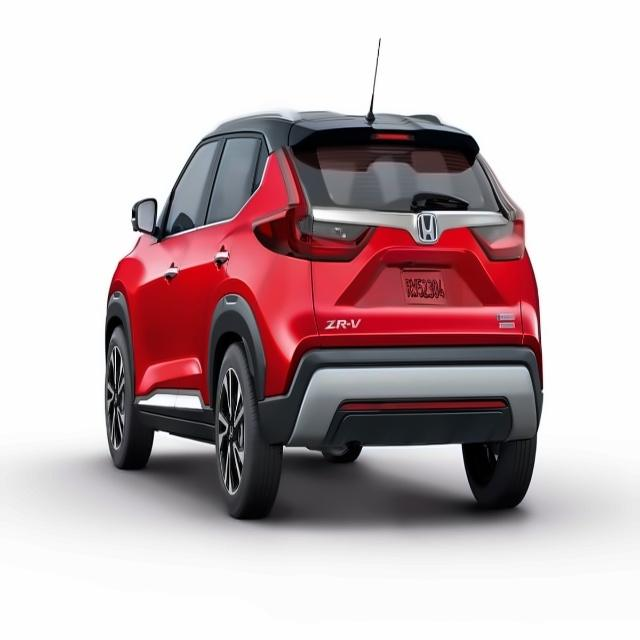Car boot: (283, 109, 531, 348)
Fender - -F-L-: (102, 220, 146, 426)
Fender - -R-L-: (211, 159, 310, 410)
Passenger-s door - -F-L-: (140, 120, 229, 434)
Passenger-s door - -R-L-: (176, 104, 273, 428)
Rear bumper: (255, 345, 547, 449)
Rear light - -L-: (250, 147, 378, 261)
Rear light - -R-: (469, 207, 526, 262)
Side bumper - -L-: (129, 376, 226, 453)
Side mirror - -L-: (132, 191, 165, 242)
